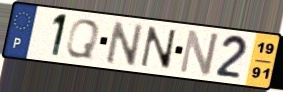1: (48, 12, 69, 61)
2: (212, 32, 252, 84)
N: (176, 28, 221, 77), (105, 19, 146, 68), (139, 25, 178, 72)
Q: (63, 18, 102, 61)
